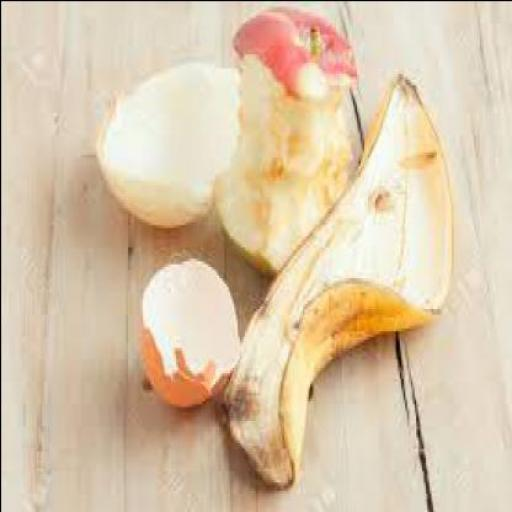biodegradable: (223, 70, 456, 486), (216, 3, 360, 274), (96, 62, 240, 222), (143, 252, 242, 403)
